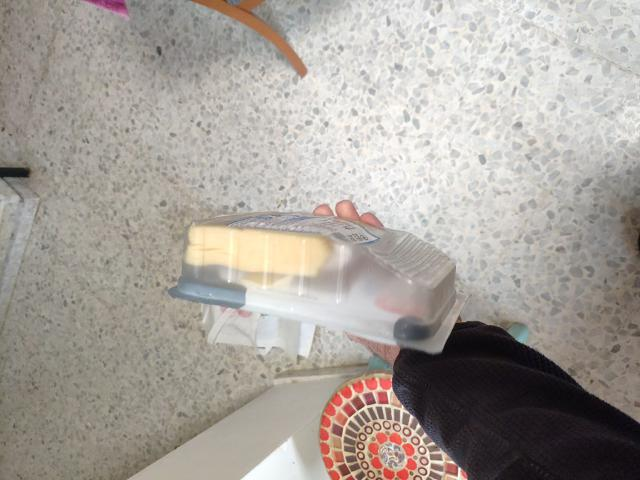cheese: (174, 209, 469, 362)
